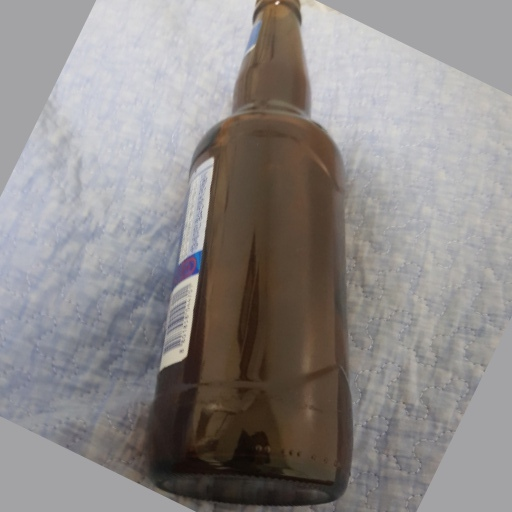Glass_1: (143, 2, 356, 501)
